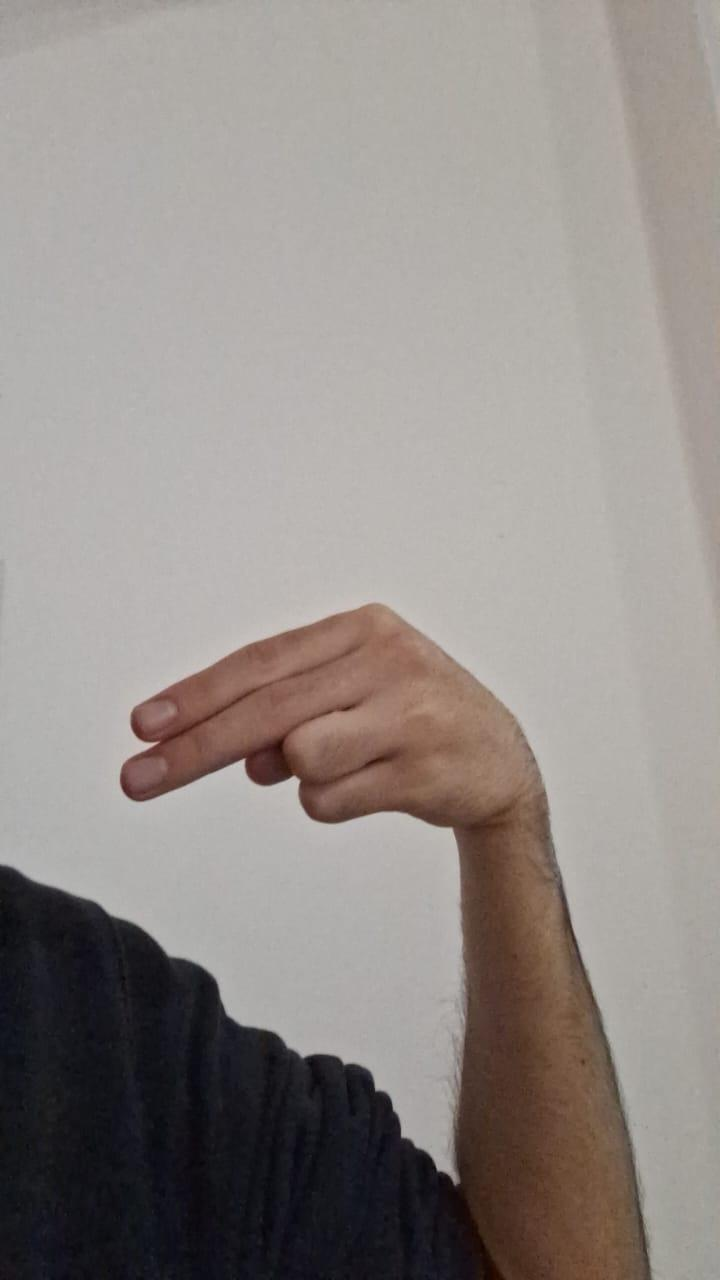N: (107, 587, 563, 840)
